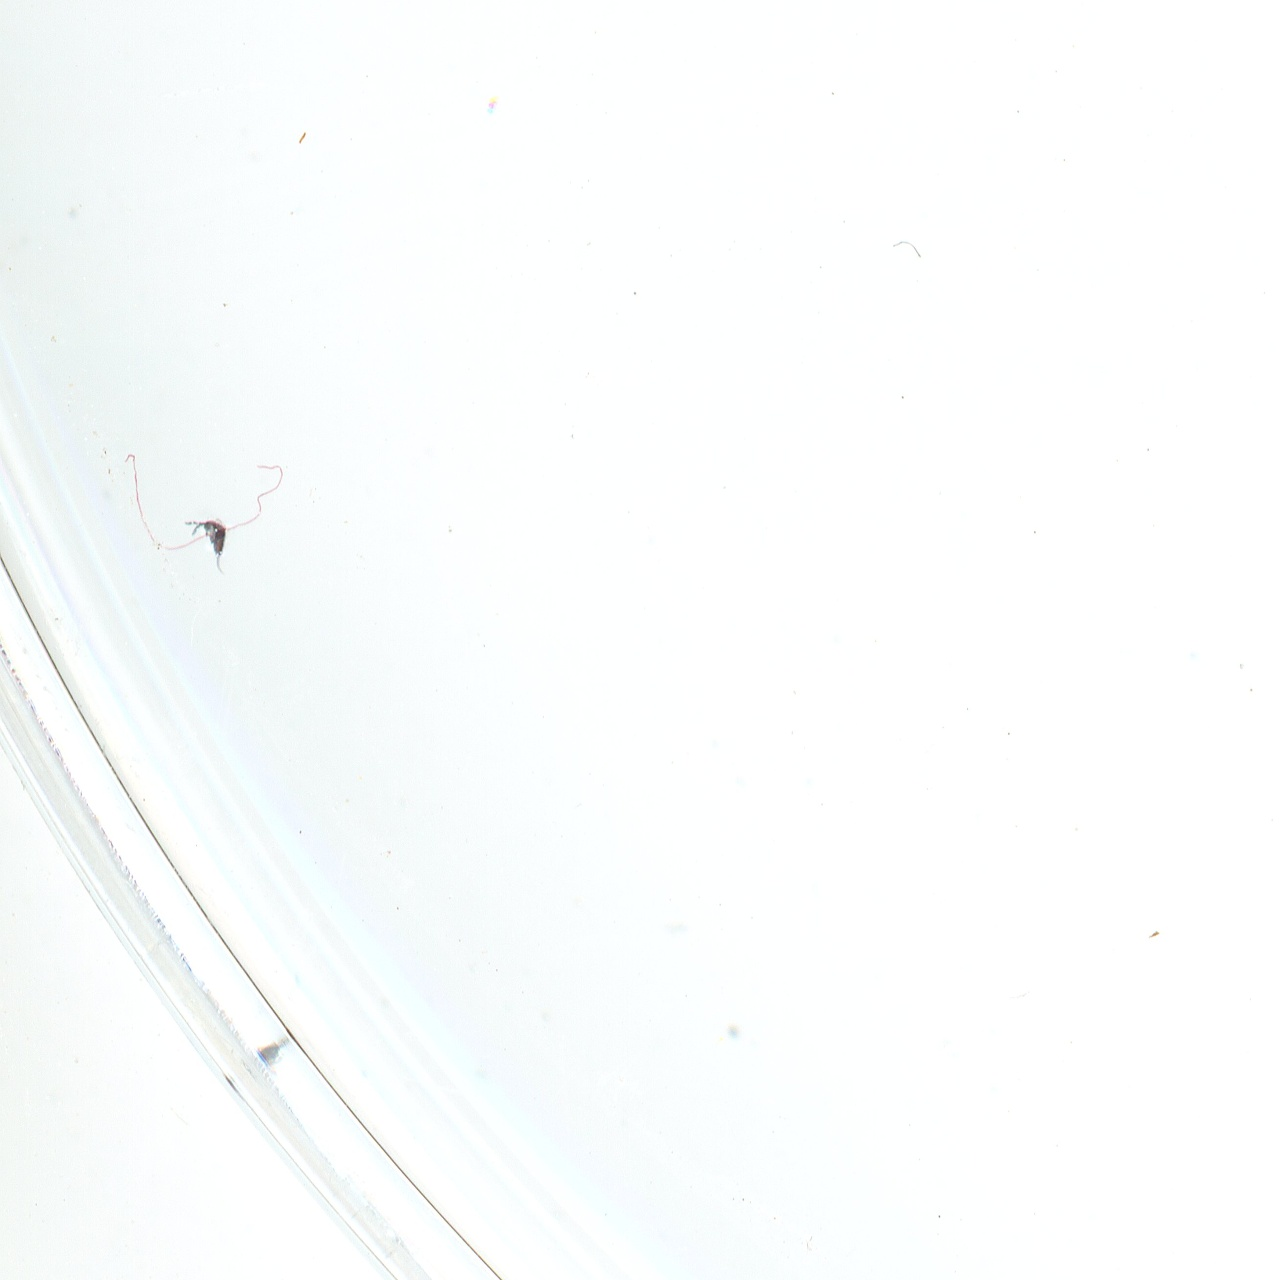arthropod: (182, 515, 237, 577)
